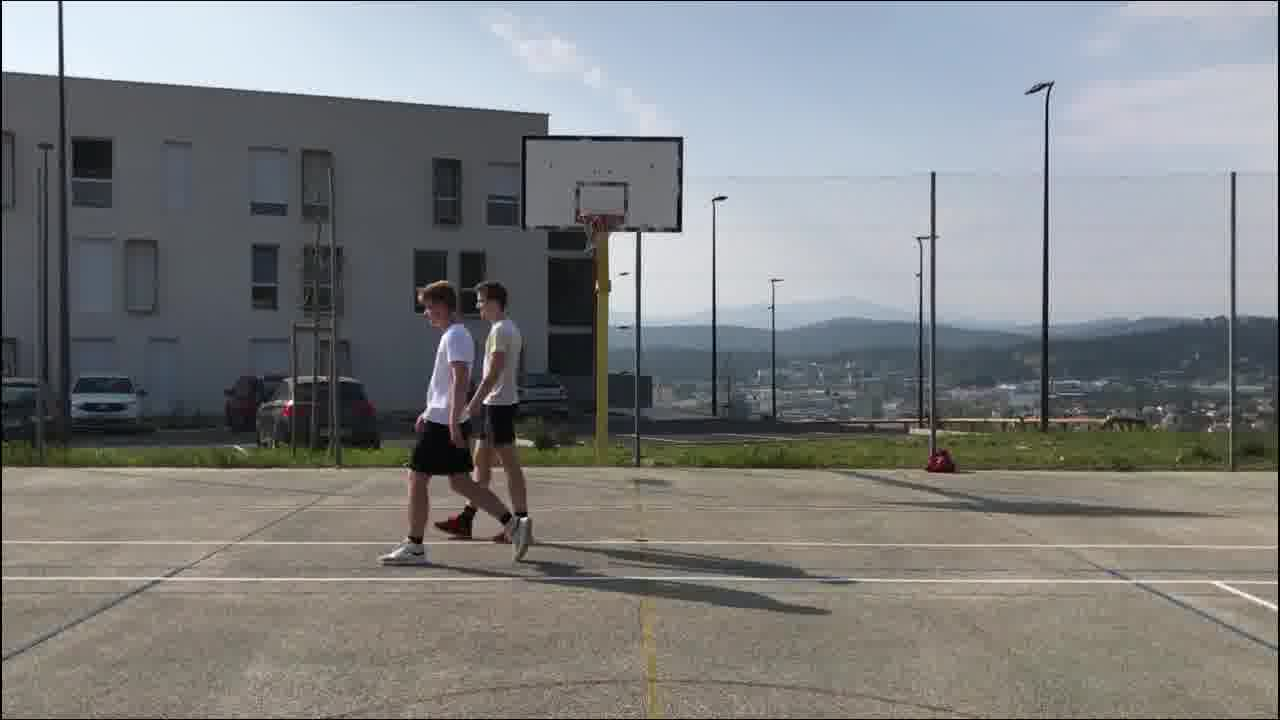jugador: (423, 271, 541, 554)
